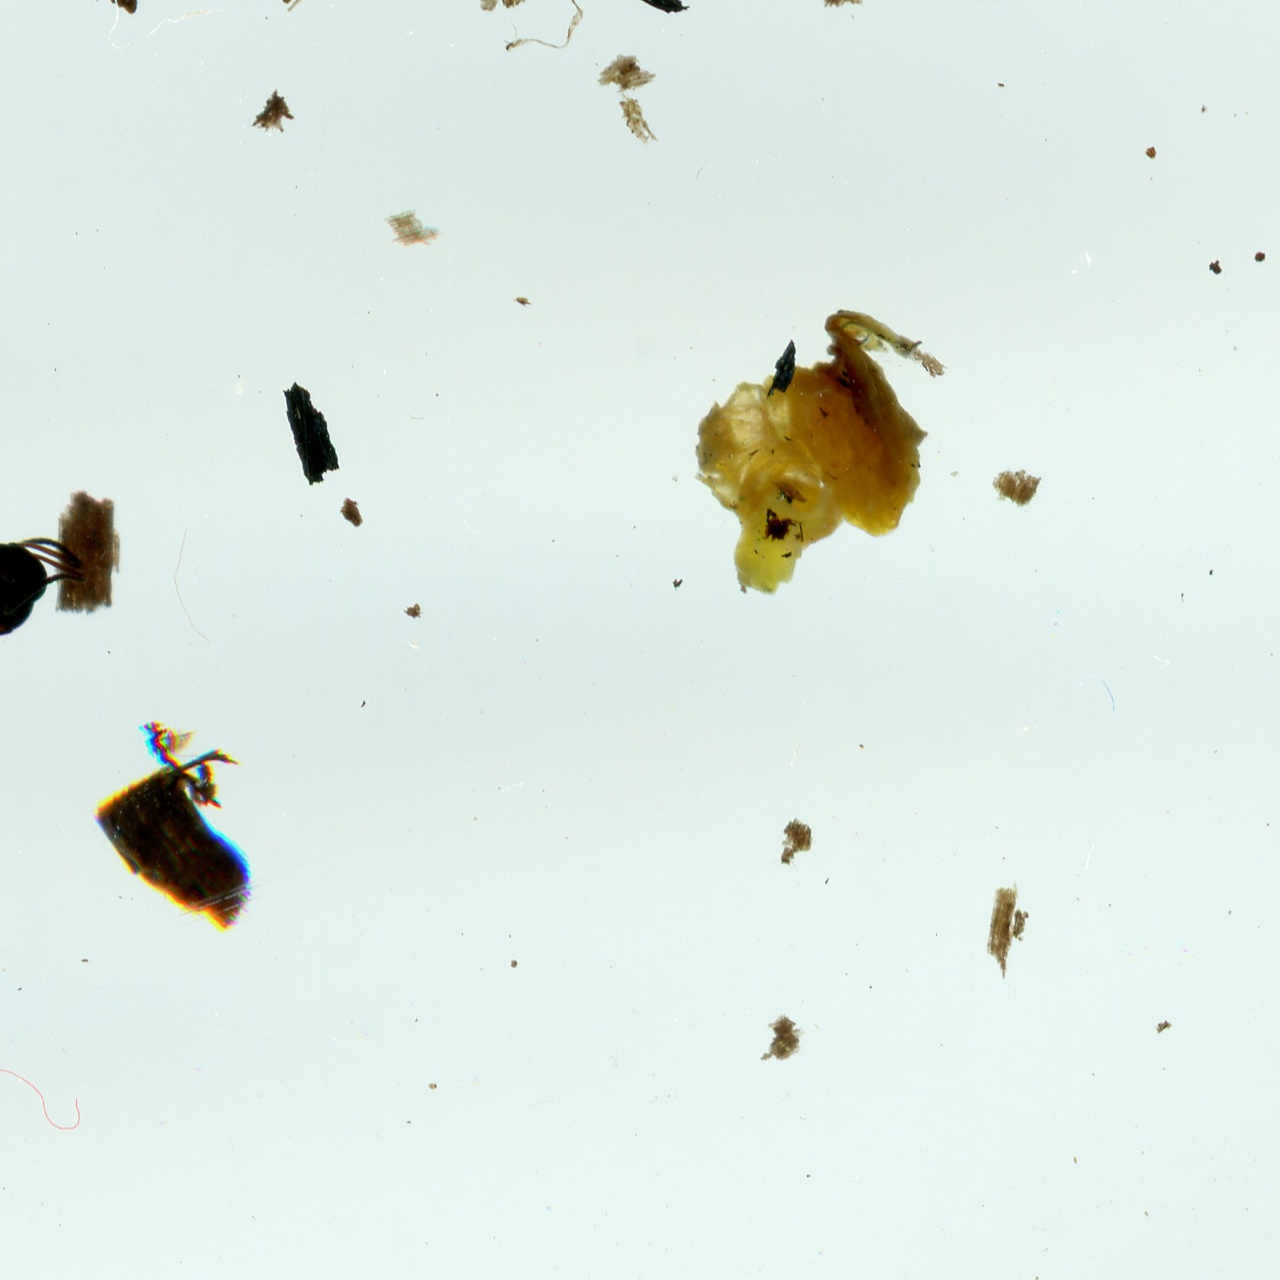arthropod: (0, 457, 100, 701)
